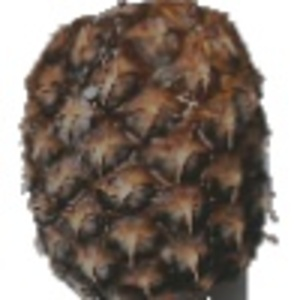abacaxi: (16, 4, 284, 291)
